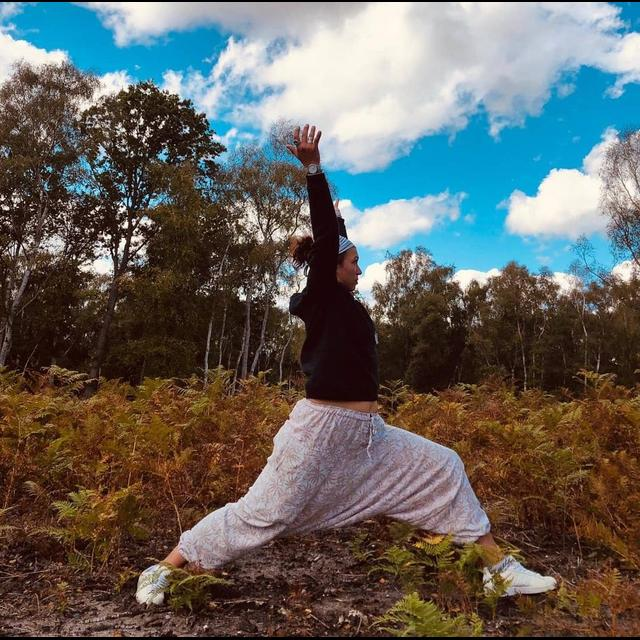Warrior_I: (109, 107, 562, 614)
